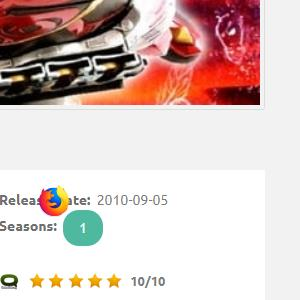firefox: (40, 185, 68, 216)
